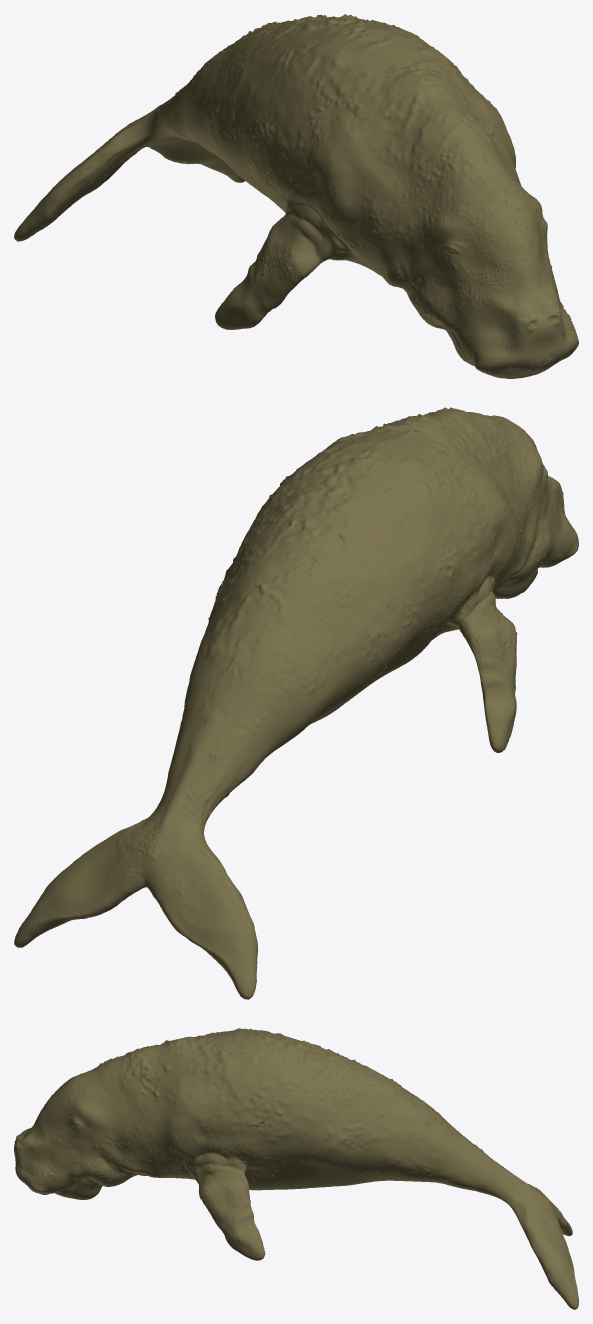
File: animal.gltf
3 renders of one model, top to bottom at view 1: azimuth 30°, elevation 25°; view 2: azimuth 150°, elevation 25°; view 3: azimuth 270°, elevation 25°, orthographic. The views are drawn at different scales.
Visible parts, largest first — view 1: Object_3, Object_4, Object_5; view 2: Object_3, Object_4, Object_5; view 3: Object_3, Object_4, Object_5.
Boxes of the visible parts, x1,y1,x2,y2 form: Object_3: [168, 14, 578, 378]; Object_4: [58, 14, 578, 378]; Object_5: [14, 19, 544, 378]; Object_3: [172, 407, 576, 812]; Object_4: [14, 408, 578, 954]; Object_5: [146, 411, 577, 999]; Object_3: [14, 1028, 502, 1221]; Object_4: [14, 1029, 578, 1309]; Object_5: [15, 1038, 572, 1236].
Bounding box in the file's own units: 2.84 × 3.21 × 6.92.
